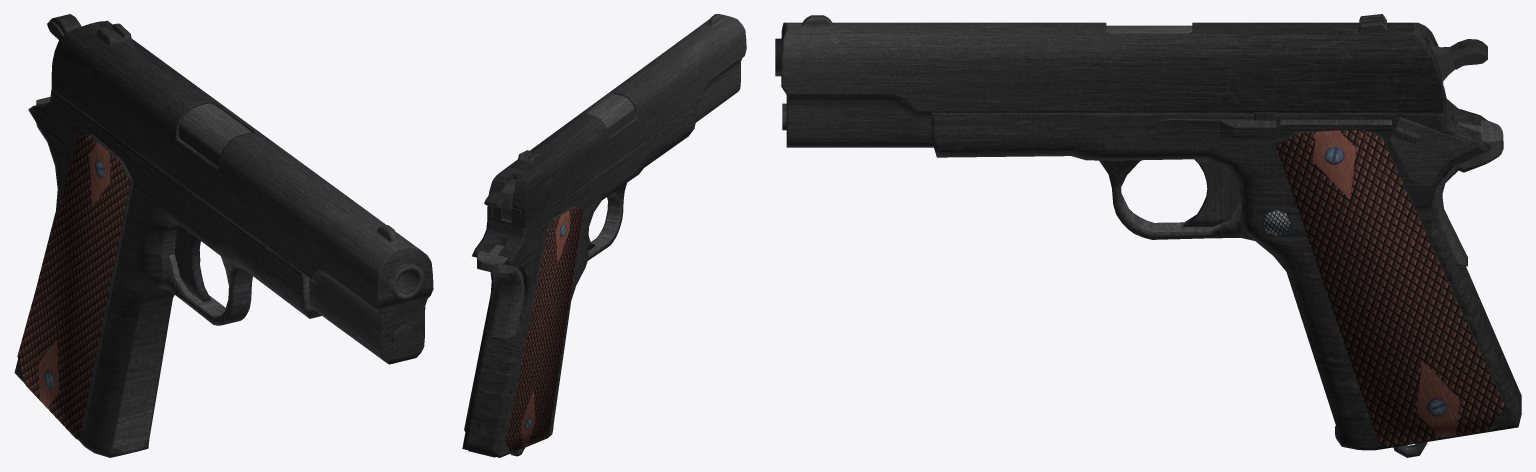
3 renders of one model, left to right at view 1: azimuth 30°, elevation 25°; view 2: azimuth 150°, elevation 25°; view 3: azimuth 270°, elevation 25°, orthographic. The views are drawn at different scales.
Visible parts, largest first — view 1: Slider, Mainbody, handle, Barrel, upperTrigger; view 2: Mainbody, Slider, handle, Barrel, upperTrigger; view 3: Slider, Mainbody, handle, upperTrigger, Barrel.
Part boxes in pixels (left/top/right/bottom): Slider: left=51, top=20, right=433, bottom=364; Mainbody: left=14, top=89, right=321, bottom=457; handle: left=17, top=134, right=133, bottom=439; Barrel: left=178, top=103, right=424, bottom=351; upperTrigger: left=47, top=14, right=81, bottom=39; Mainbody: left=462, top=104, right=696, bottom=457; Slider: left=487, top=14, right=746, bottom=228; handle: left=464, top=206, right=583, bottom=451; Barrel: left=586, top=94, right=635, bottom=136; upperTrigger: left=484, top=182, right=515, bottom=220; Slider: left=781, top=14, right=1443, bottom=147; Mainbody: left=931, top=76, right=1521, bottom=450; handle: left=1262, top=130, right=1505, bottom=446; upperTrigger: left=1429, top=39, right=1487, bottom=80; Barrel: left=775, top=25, right=1192, bottom=130.
Bounding box in the file's own units: 91.47 × 567 × 874.
